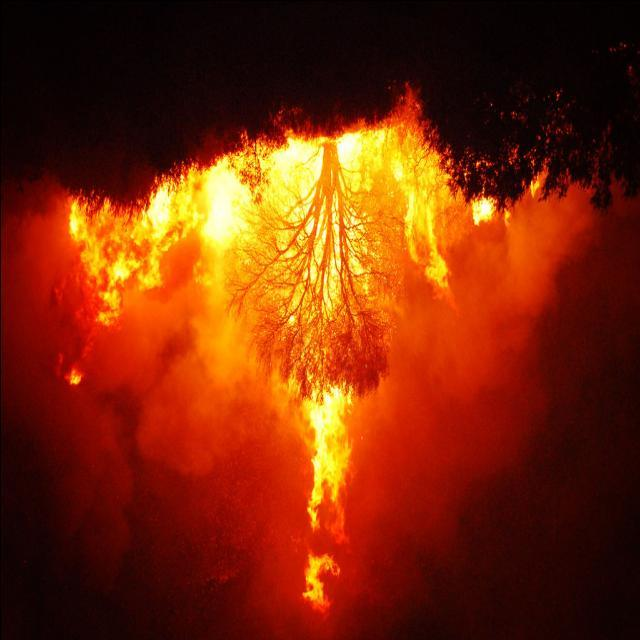Fire: (58, 135, 505, 614)
